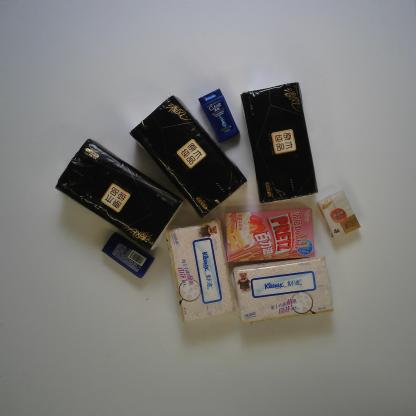Dessert: (224, 207, 315, 263)
Personal Hygiene: (102, 231, 155, 279), (198, 88, 239, 143)
Tissue: (129, 95, 247, 219), (54, 138, 184, 250), (240, 82, 318, 204), (164, 219, 237, 323), (233, 256, 335, 324), (316, 191, 361, 240)
